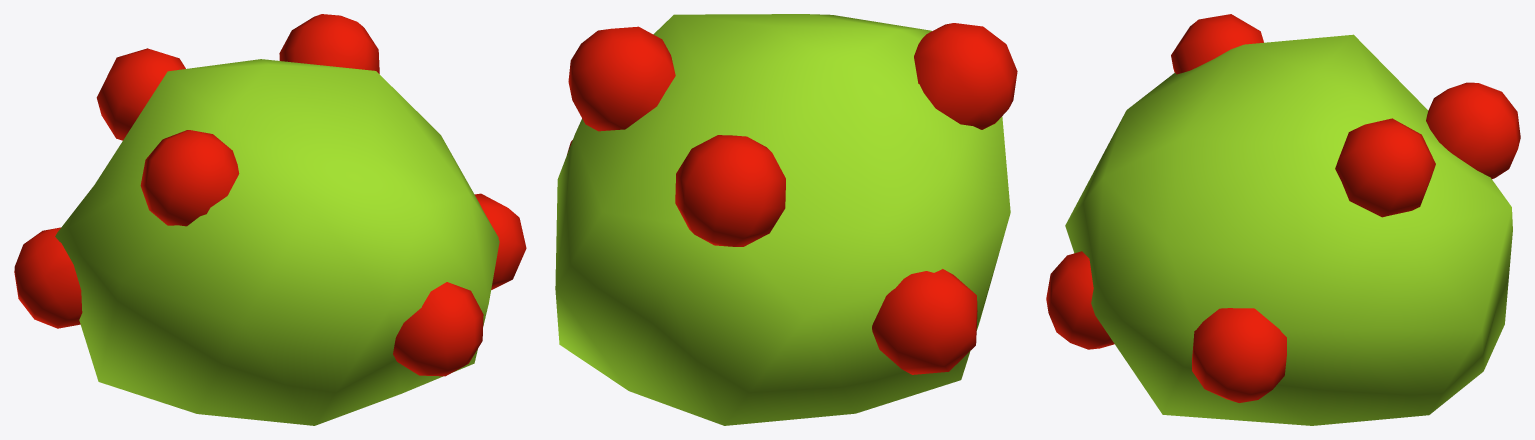
File: object_landscape_plant_berry_bush_small.glb
3 renders of one model, left to right at view 1: azimuth 30°, elevation 25°; view 2: azimuth 150°, elevation 25°; view 3: azimuth 270°, elevation 25°, orthographic. The views are drawn at different scales.
Parts seen in each view (by area): view 1: object_landscape_plant_berry_bush_small; view 2: object_landscape_plant_berry_bush_small; view 3: object_landscape_plant_berry_bush_small.
Part boxes in pixels (bbox=[...]): object_landscape_plant_berry_bush_small: bbox=[14, 14, 526, 425]; object_landscape_plant_berry_bush_small: bbox=[555, 14, 1017, 425]; object_landscape_plant_berry_bush_small: bbox=[1046, 14, 1520, 425].
Size of the model in its own units: 0.2077 by 0.1266 by 0.1969.
